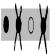correct: (3, 15, 9, 34)
not correct: (38, 2, 48, 54), (14, 2, 22, 52)
